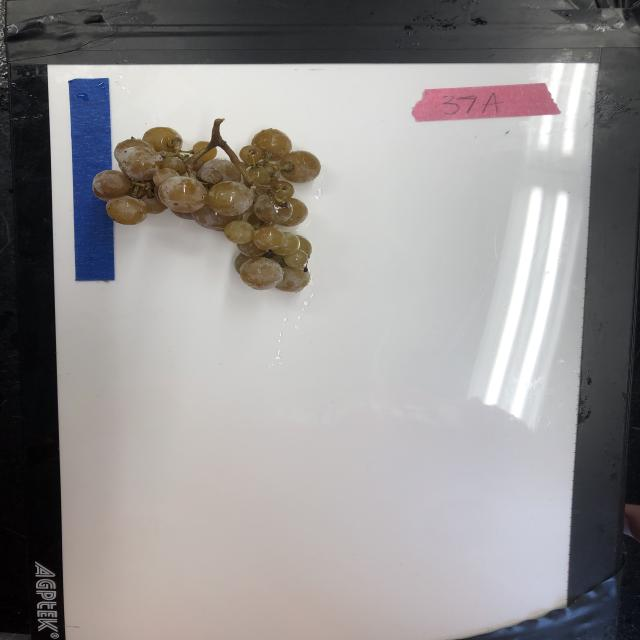grape_cluster: (95, 114, 324, 296)
index: (410, 78, 567, 126)
measure_label: (68, 76, 118, 284)
